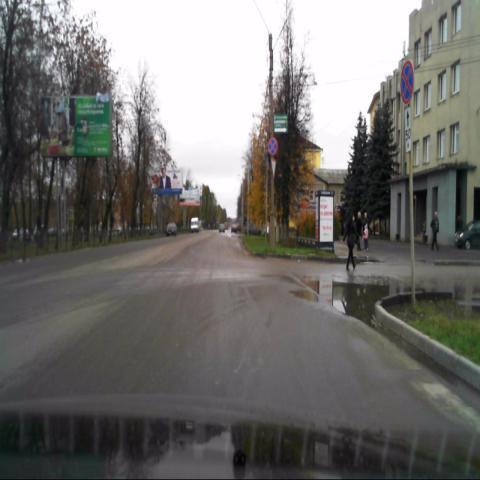3_27: (400, 60, 414, 103)
8_2_2: (404, 104, 412, 152)
